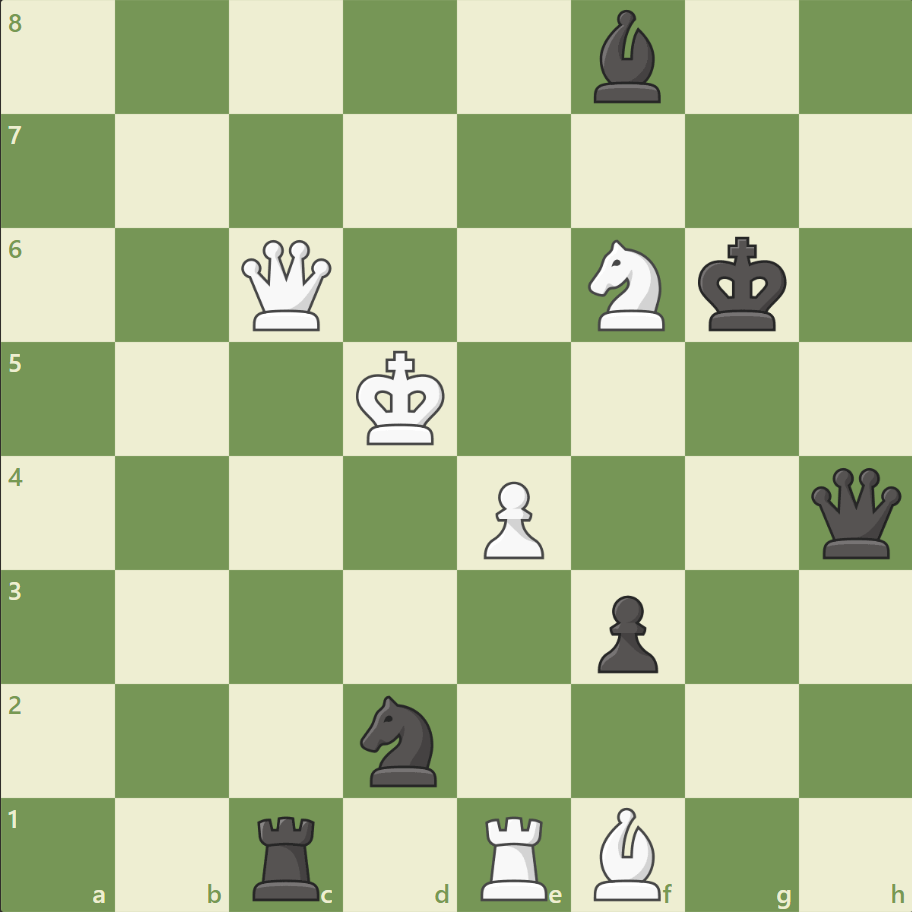B: (592, 806, 670, 910)
K: (355, 353, 453, 455)
N: (587, 240, 676, 341)
P: (482, 476, 554, 560)
Q: (241, 240, 342, 341)
R: (479, 808, 557, 908)
b: (592, 12, 670, 115)
k: (696, 240, 794, 341)
n: (360, 694, 449, 795)
p: (596, 589, 668, 674)
q: (808, 467, 909, 568)
r: (251, 808, 330, 908)
